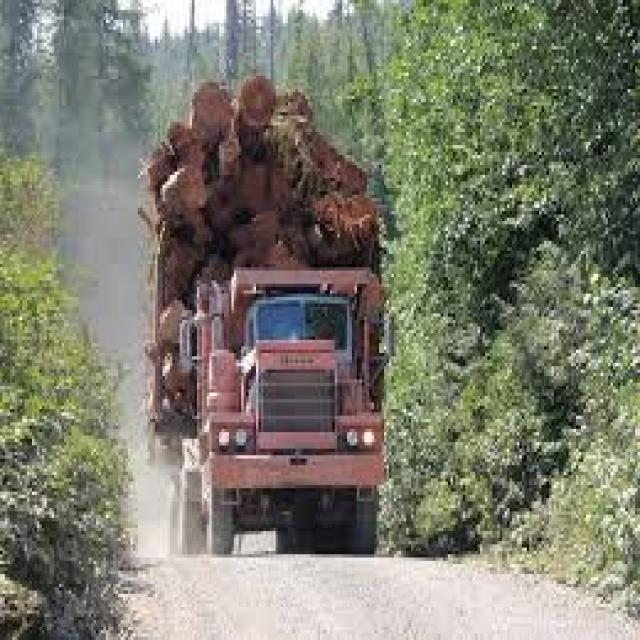Truck: (151, 116, 391, 564)
